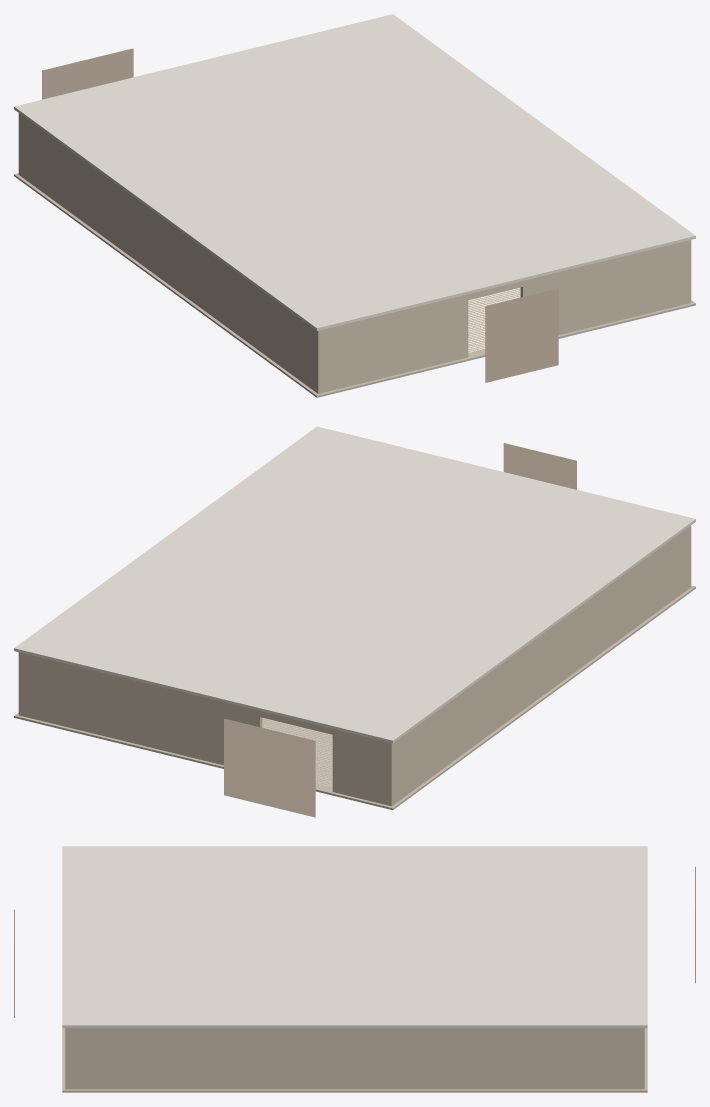
3 renders of one model, top to bottom at view 1: azimuth 30°, elevation 25°; view 2: azimuth 150°, elevation 25°; view 3: azimuth 270°, elevation 25°, orthographic. The views are drawn at different scales.
Visible parts, largest first — view 1: plafon, dinding barat, dinding selatan kiri, dinding selatan kanan, kotak cahaya, lantai, kotak cahaya.001; view 2: plafon, dinding barat, dinding utara kanan, kotak cahaya.001, dinding utara kiri, lantai, kotak cahaya; view 3: plafon, dinding timur, lantai.
Boxes of the visible parts, box(x1,y1,x2,y2) form: plafon: box(14, 14, 695, 330); dinding barat: box(21, 115, 315, 391); dinding selatan kiri: box(315, 294, 468, 393); dinding selatan kanan: box(520, 240, 691, 335); kotak cahaya: box(485, 288, 558, 382); lantai: box(14, 173, 695, 397); kotak cahaya.001: box(42, 48, 133, 99); plafon: box(14, 426, 695, 743); dinding barat: box(394, 527, 688, 804); dinding utara kanan: box(18, 652, 262, 765); kotak cahaya.001: box(224, 718, 315, 817); dinding utara kiri: box(332, 729, 394, 806); lantai: box(14, 585, 695, 810); kotak cahaya: box(503, 443, 576, 489); plafon: box(62, 846, 647, 1027); dinding timur: box(70, 1028, 639, 1089); lantai: box(62, 1028, 647, 1092).
Size of the model in its own units: 20.8 by 4 by 33.54.
